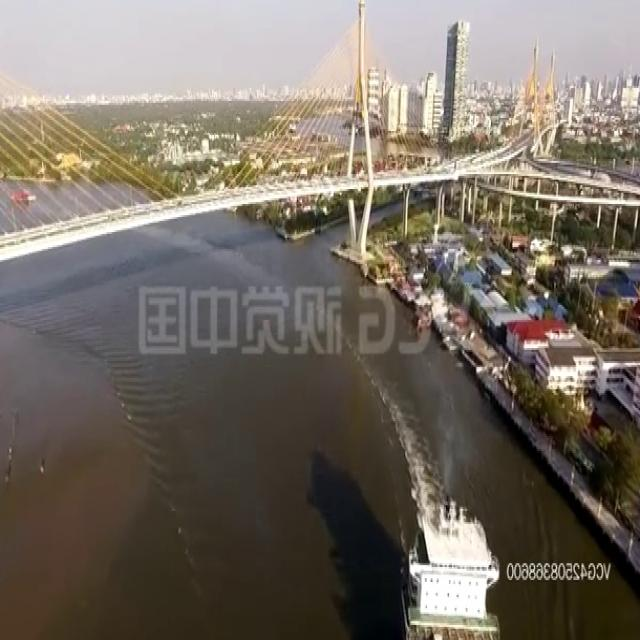cargoship: (399, 501, 506, 640)
